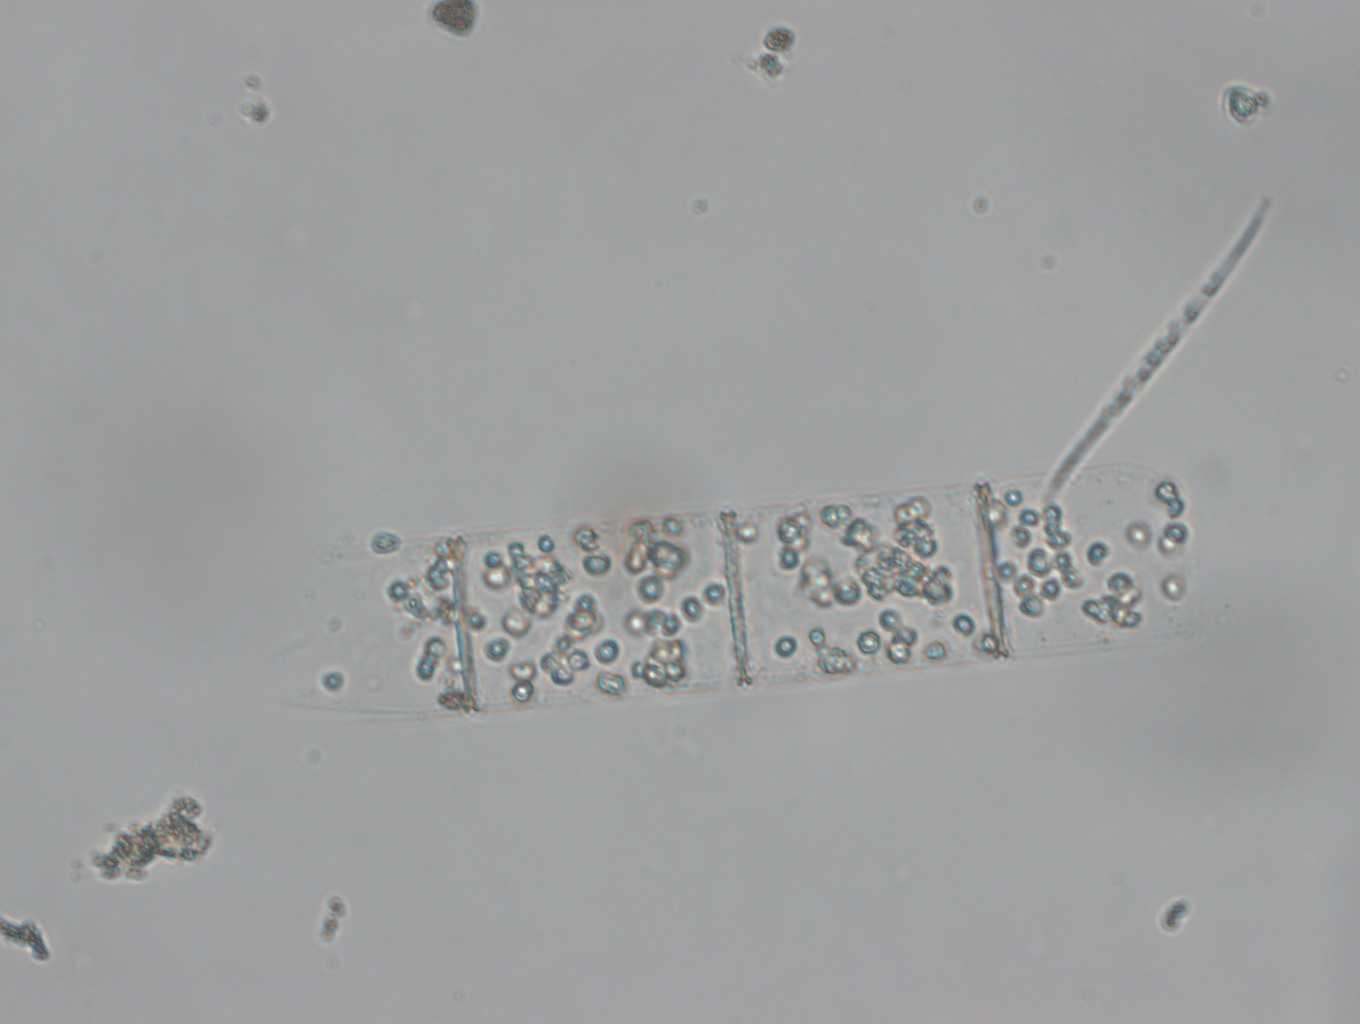guinardia flaccida: (267, 463, 1232, 737)
pleurosigma pelagicum: (1023, 176, 1284, 504)
